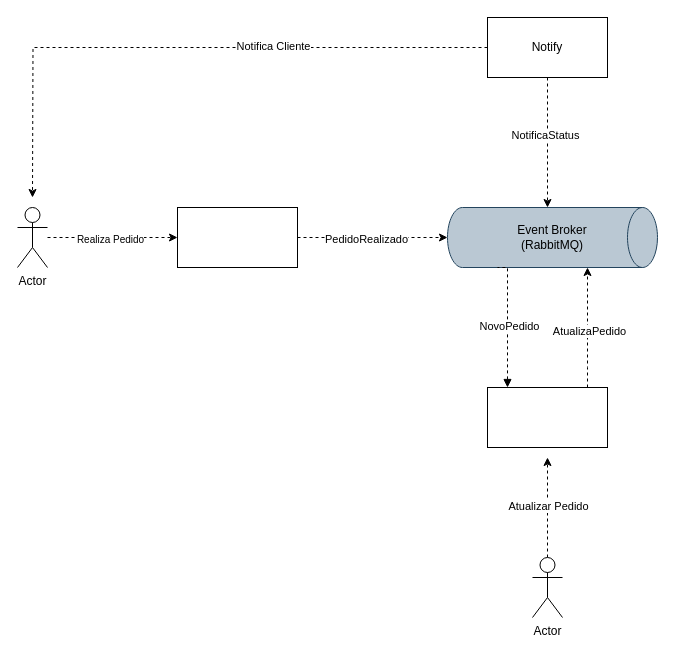
The diagram is 675 pixels wide and 656 high, and some of its shapes have lost their labels. The box of each missing label's shape, as (x1, y1, x2, y2) in pixels:
Orders: (176, 206, 298, 268)
OrdersStatus: (486, 386, 608, 448)
